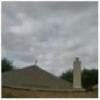chimneys: (72, 56, 82, 90)
